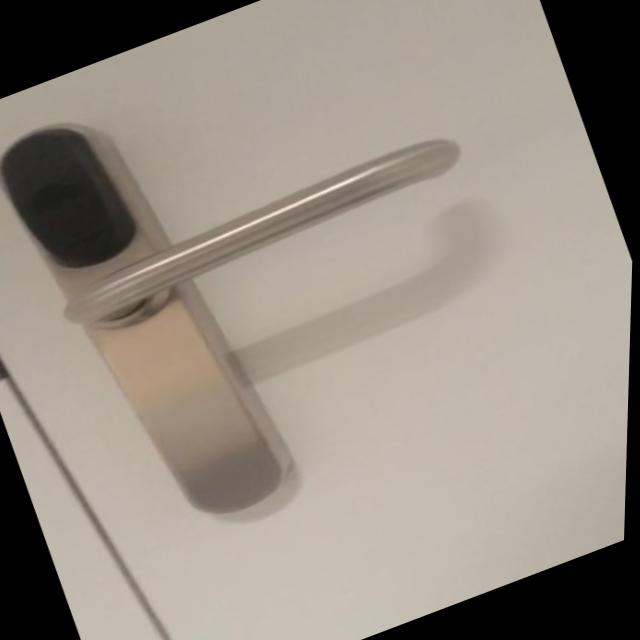door_handle: (8, 114, 508, 368)
